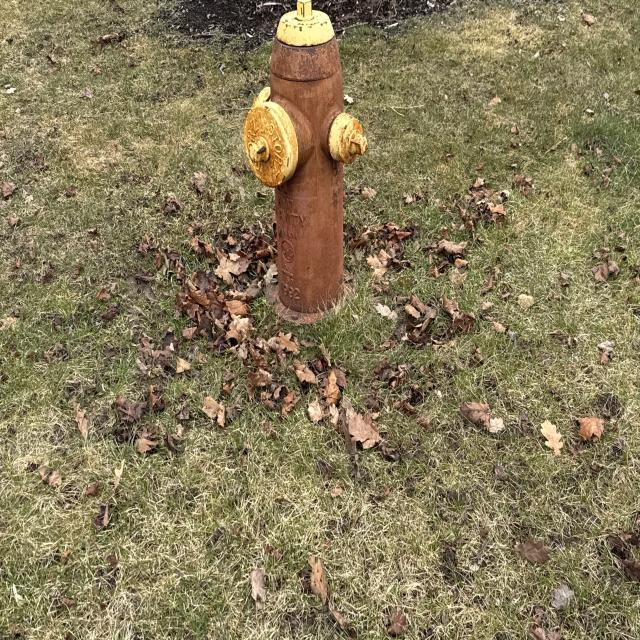Fire hydrant: (240, 1, 370, 328)
